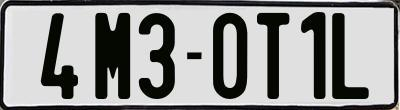0: (210, 12, 250, 103)
1: (298, 10, 325, 102)
3: (138, 11, 175, 97)
4: (39, 10, 81, 97)
L: (332, 12, 369, 98)
M: (93, 13, 131, 103)
T: (254, 11, 291, 103)
